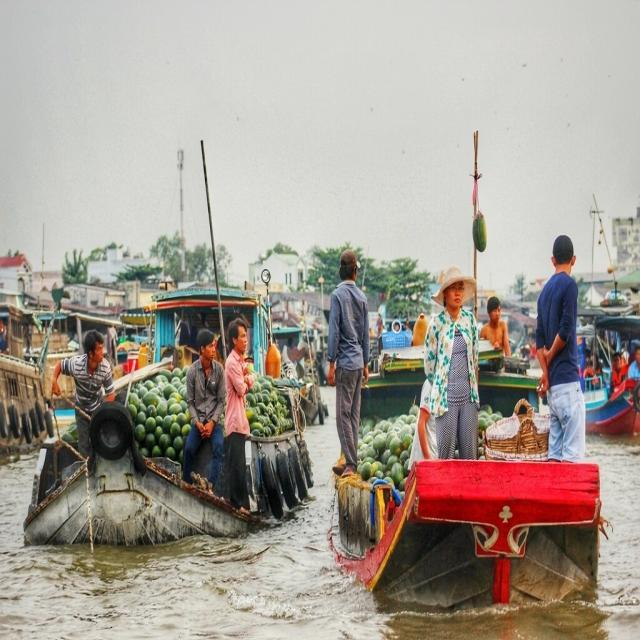boat: (322, 348, 618, 624), (21, 343, 267, 549)
